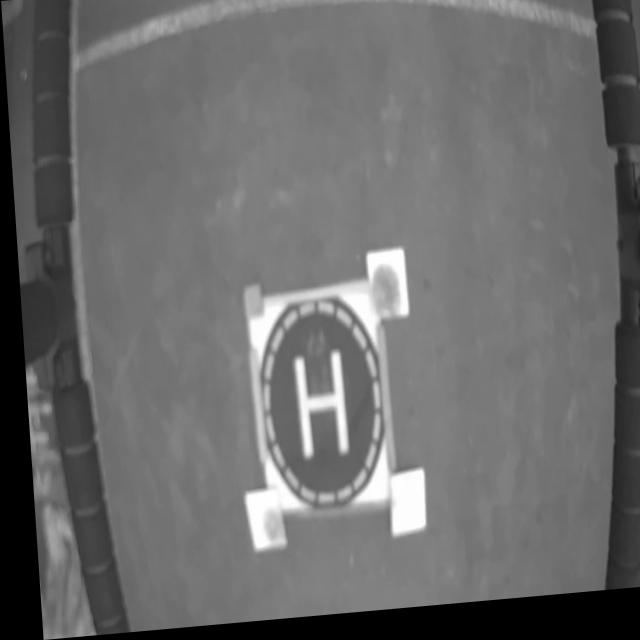Helipad: (286, 353, 342, 464)
